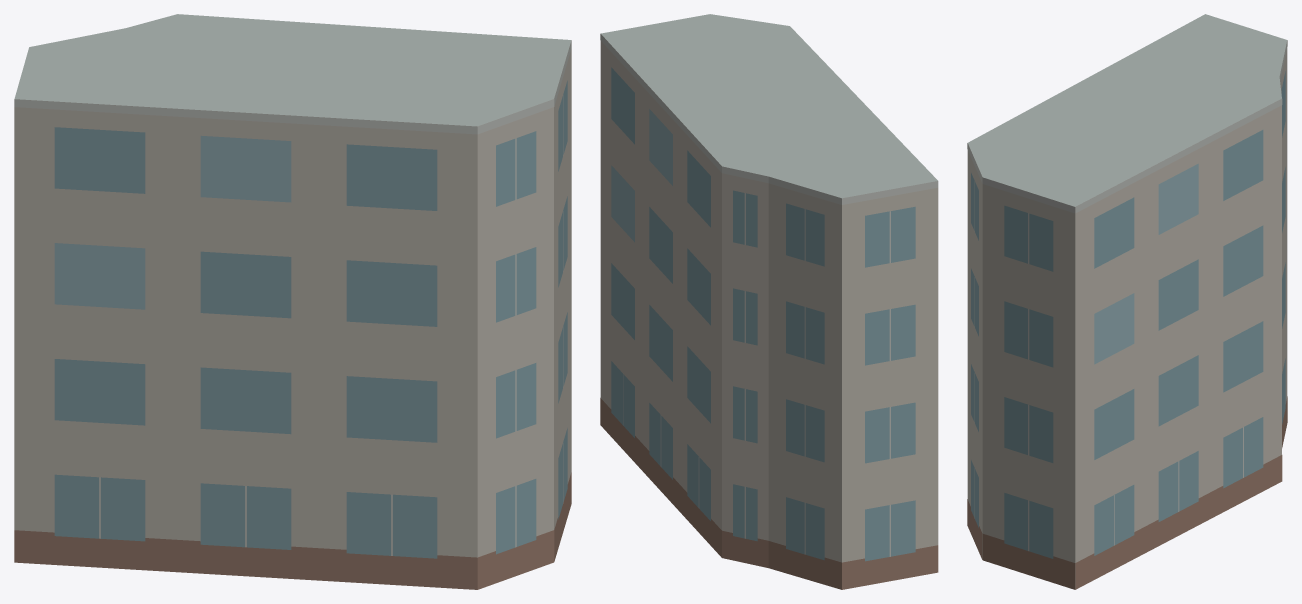
File: survey-upis-32958448.glb
The picture shows the model from 3 angles, left to right: view 1: azimuth 30°, elevation 25°; view 2: azimuth 150°, elevation 25°; view 3: azimuth 270°, elevation 25°; orthographic projection. The views are drawn at different scales.
Visible parts, largest first — view 1: survey-upis-32958448.tmp; view 2: survey-upis-32958448.tmp; view 3: survey-upis-32958448.tmp.
Part boxes in pixels (x1,y1,x2,y2): survey-upis-32958448.tmp: (14, 14, 571, 589); survey-upis-32958448.tmp: (600, 14, 938, 589); survey-upis-32958448.tmp: (967, 14, 1287, 589).
Size of the model in its own units: 15.24 by 14.1 by 10.68.
